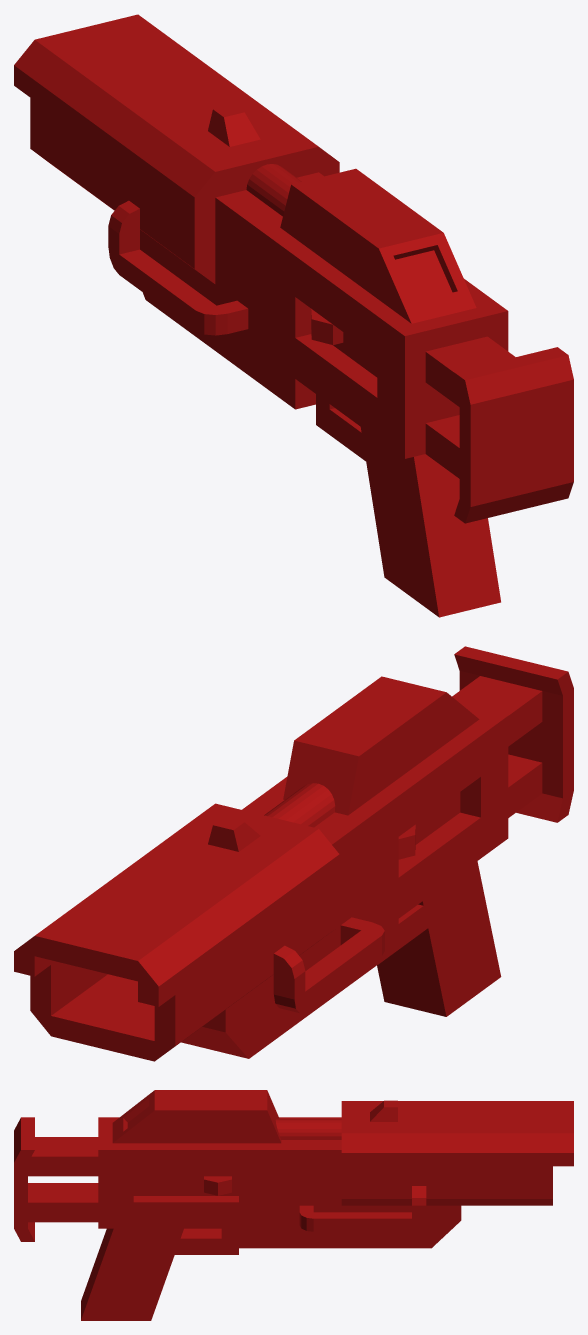
Rendered from gun.obj.
3 views of the same model, one above another, from view 1: azimuth 30°, elevation 25°; view 2: azimuth 150°, elevation 25°; view 3: azimuth 270°, elevation 25° (orthographic). The views are drawn at different scales.
Parts seen in each view (by area): view 1: blasterG; view 2: blasterG; view 3: blasterG.
Part boxes in pixels (left/top/right/bottom): blasterG: left=14, top=14, right=573, bottom=617; blasterG: left=14, top=646, right=573, bottom=1061; blasterG: left=14, top=1090, right=573, bottom=1320.
Bounding box in the file's own units: 0.0862 × 0.145 × 0.3497.
1 material, 1 textured.
